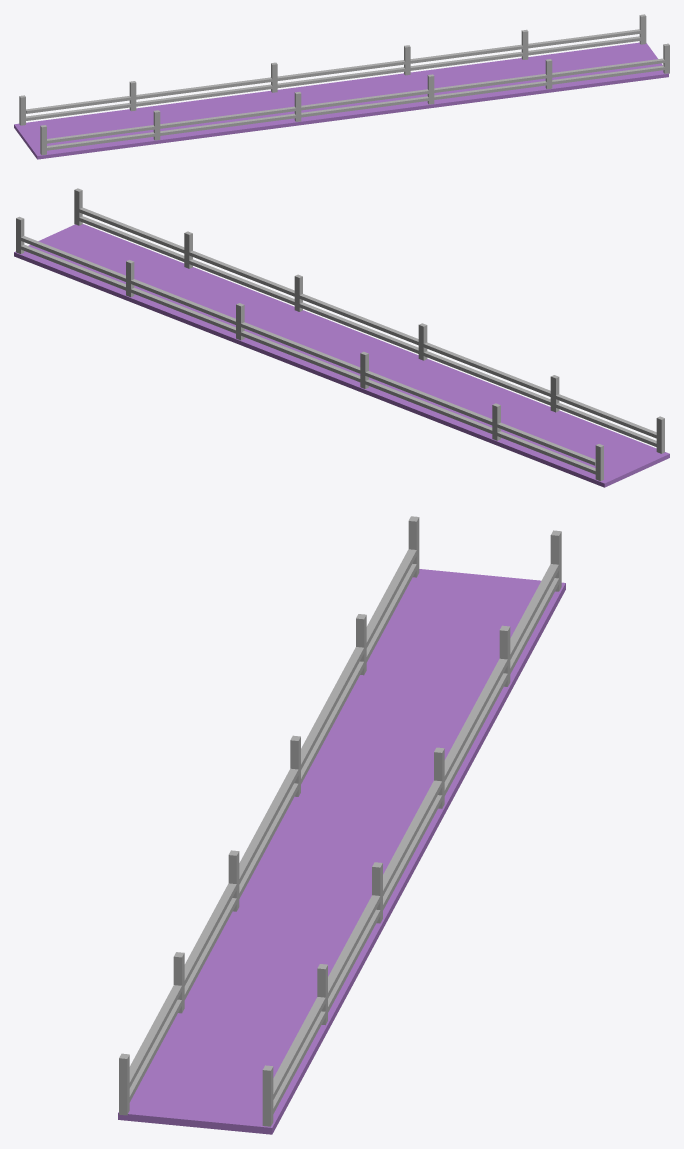
Rendered from Bridge 010.fbx.
3 renders of one model, top to bottom at view 1: azimuth 30°, elevation 25°; view 2: azimuth 150°, elevation 25°; view 3: azimuth 270°, elevation 25°, orthographic. The views are drawn at different scales.
Visible parts, largest first — view 1: Walkway_01, Cube__1__7, Cube__1__9, Cube_7, Cube_9, Cube_6, Cube__1__6, Cube__1__8, Cube_8, Cube__1__3, Cube__1__2, Cube__1__4 (+9 smaller); view 2: Walkway_01, Cube_7, Cube__1__7, Cube_9, Cube__1__9, Cube__1__8, Cube__1__6, Cube_8, Cube_6, Cube__1__4, Cube__1__5, Cube__1__2 (+9 smaller); view 3: Walkway_01, Cube_7, Cube_9, Cube_8, Cube_6, Cube_4, Cube_5, Cube_3, Cube_2, Cube, Cube_1, Cube__1__7 (+3 smaller).
Boxes of the visible parts, box(x1,y1,x2,y2) form: Walkway_01: box(14, 42, 668, 159); Cube__1__7: box(134, 84, 274, 106); Cube__1__9: box(158, 113, 298, 136); Cube_7: box(135, 77, 273, 99); Cube_9: box(158, 106, 295, 128); Cube_6: box(277, 60, 406, 80); Cube__1__6: box(277, 67, 405, 87); Cube__1__8: box(301, 96, 428, 117); Cube_8: box(301, 89, 428, 110); Cube__1__3: box(410, 51, 525, 70); Cube__1__2: box(526, 36, 641, 55); Cube__1__4: box(550, 65, 665, 84); Walkway_01: box(14, 224, 669, 487); Cube_7: box(365, 371, 492, 425); Cube__1__7: box(365, 379, 492, 433); Cube_9: box(423, 342, 550, 396); Cube__1__9: box(423, 351, 550, 405); Cube__1__8: box(297, 302, 420, 354); Cube__1__6: box(239, 331, 361, 382); Cube_8: box(297, 294, 418, 345); Cube_6: box(241, 322, 360, 373); Cube__1__4: box(78, 216, 185, 262); Cube__1__5: box(187, 259, 294, 305); Cube__1__2: box(20, 244, 127, 291); Walkway_01: box(118, 569, 565, 1134); Cube_7: box(444, 658, 507, 781); Cube_9: box(300, 646, 364, 771); Cube_8: box(238, 768, 298, 886); Cube_6: box(383, 780, 442, 895); Cube_4: box(129, 985, 181, 1088); Cube_5: box(184, 883, 236, 986); Cube_3: box(327, 895, 380, 998); Cube_2: box(273, 997, 325, 1100); Cube: box(366, 549, 416, 647); Cube_1: box(510, 564, 558, 660); Cube__1__7: box(444, 673, 507, 795).
Bounding box in the file's own units: 9216 × 482 × 3115.
